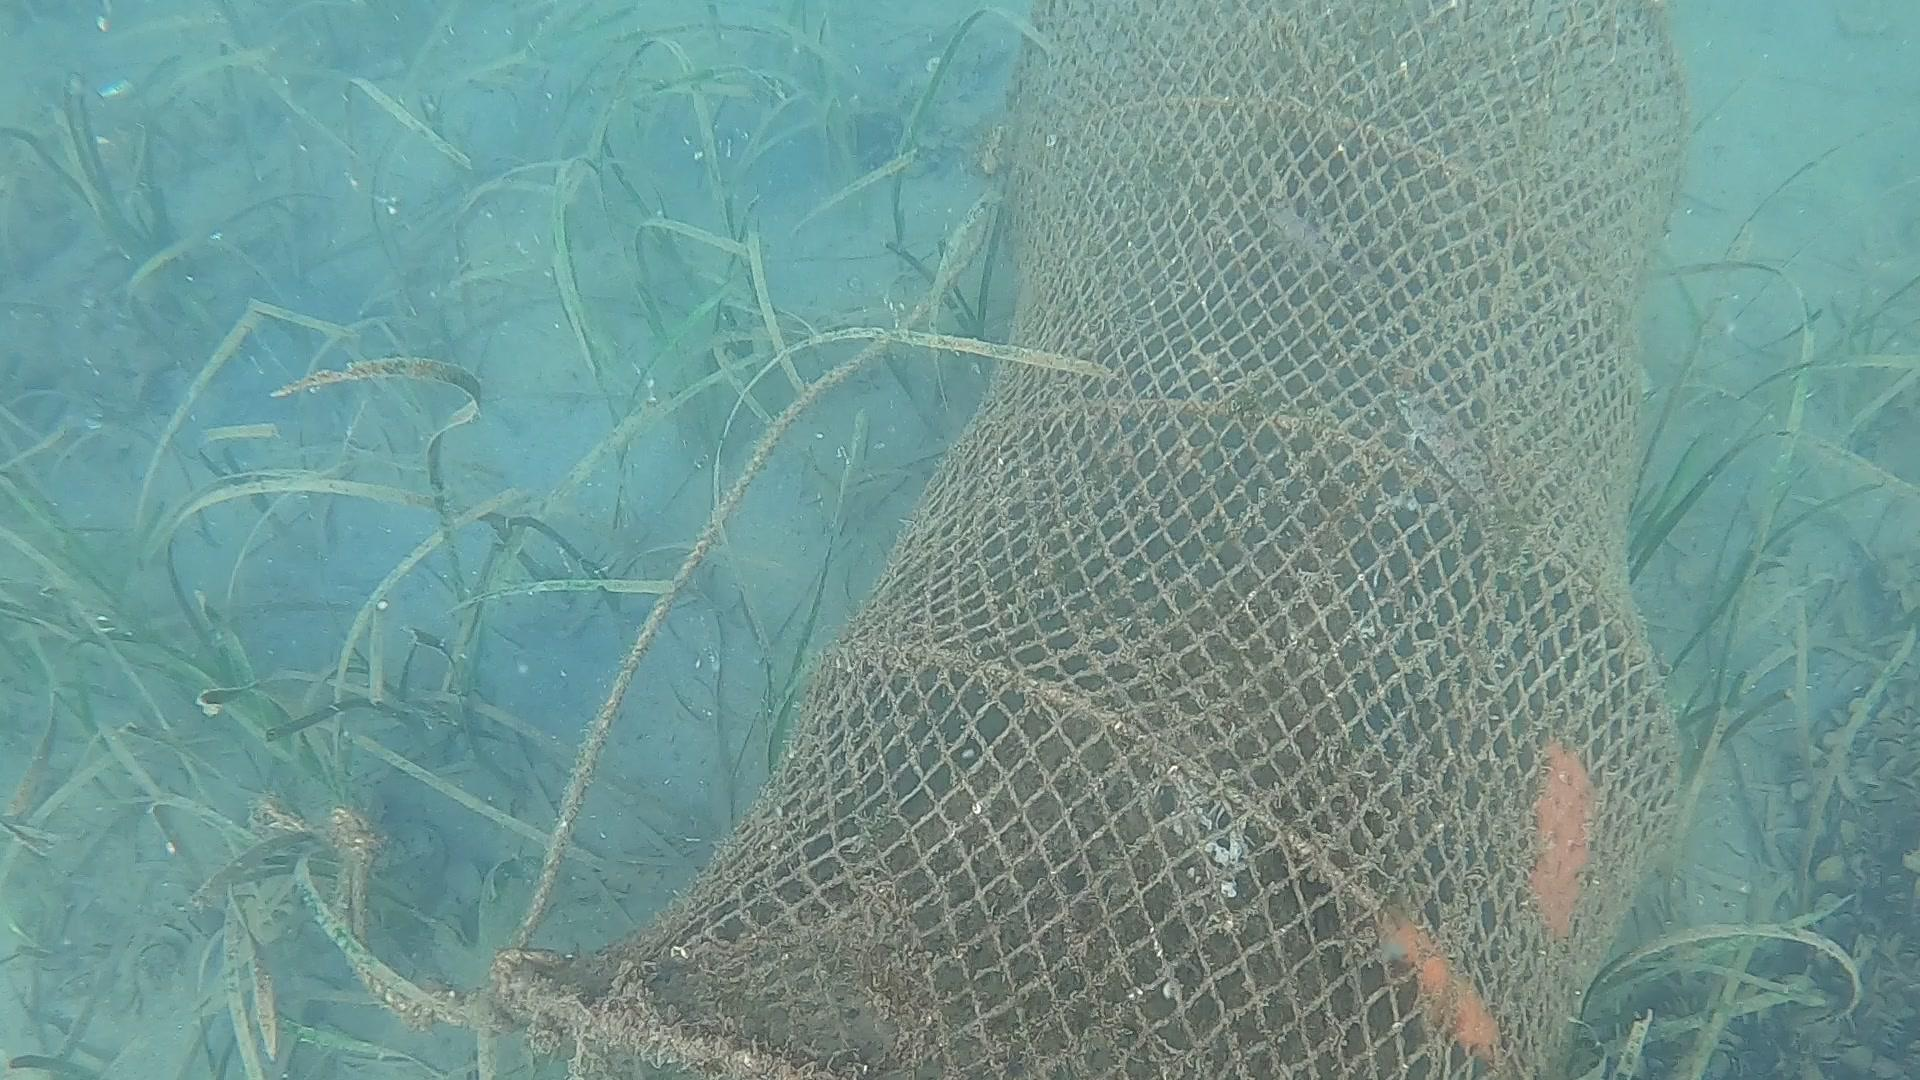rope: (506, 208, 996, 939)
spring fish trap: (471, 0, 1697, 1080)
